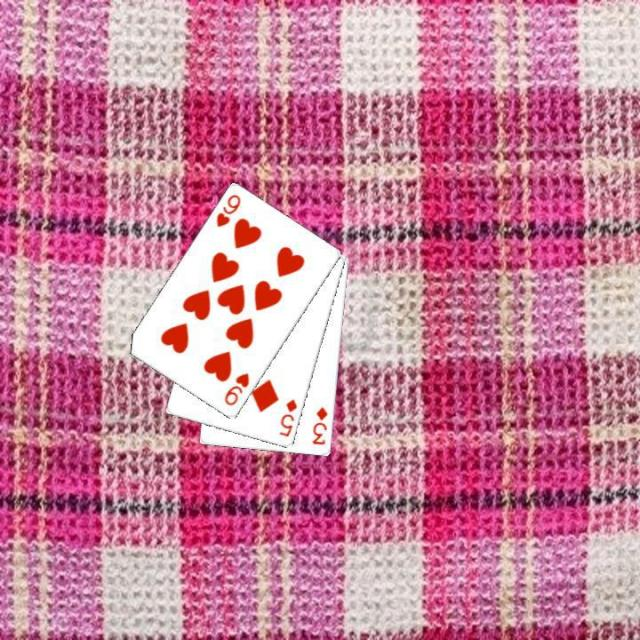3D: (308, 403, 330, 447)
5D: (276, 396, 300, 439)
9H: (220, 369, 252, 408), (212, 190, 242, 230)
